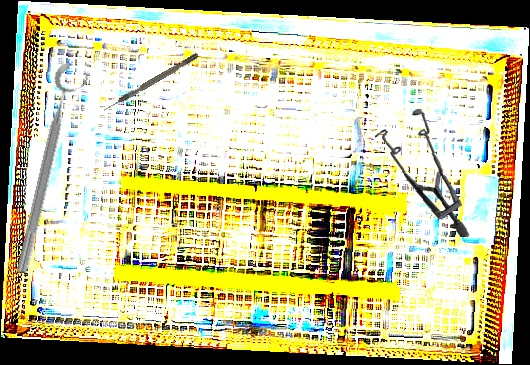Fixation Ring: (9, 61, 93, 278)
Hook Surgical: (102, 52, 200, 113)
Speculum: (370, 106, 477, 238)
